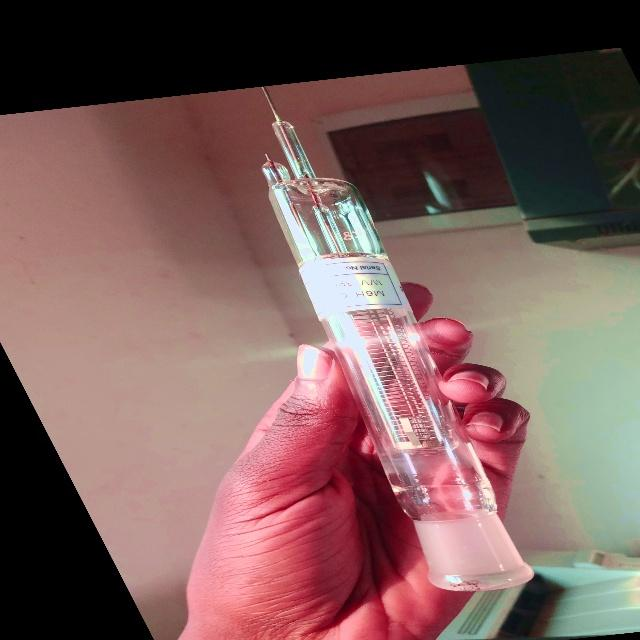Helium Lamp: (197, 93, 550, 592)
